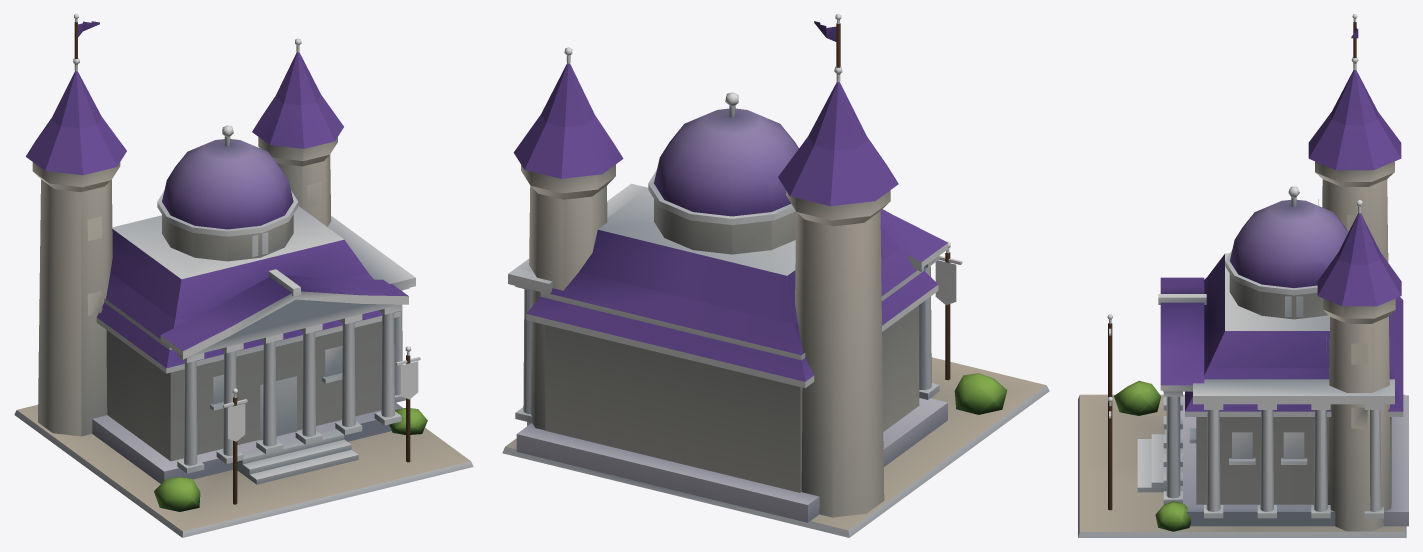
Rendered from academy_t5.glb.
The picture shows the model from 3 angles, left to right: view 1: azimuth 30°, elevation 25°; view 2: azimuth 150°, elevation 25°; view 3: azimuth 270°, elevation 25°; orthographic projection. The views are drawn at different scales.
Parts seen in each view (by area): view 1: academy_t5; view 2: academy_t5; view 3: academy_t5.
Boxes of the visible parts, <box> form: academy_t5: <box>14,14,473,537</box>; academy_t5: <box>502,14,1049,537</box>; academy_t5: <box>1078,14,1408,537</box>.
Size of the model in its own units: 2.97 by 3.86 by 2.88.
